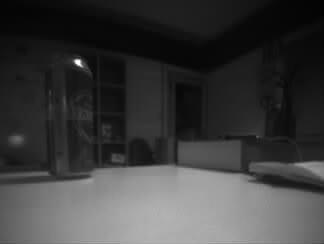Tin can: (46, 56, 93, 177)
